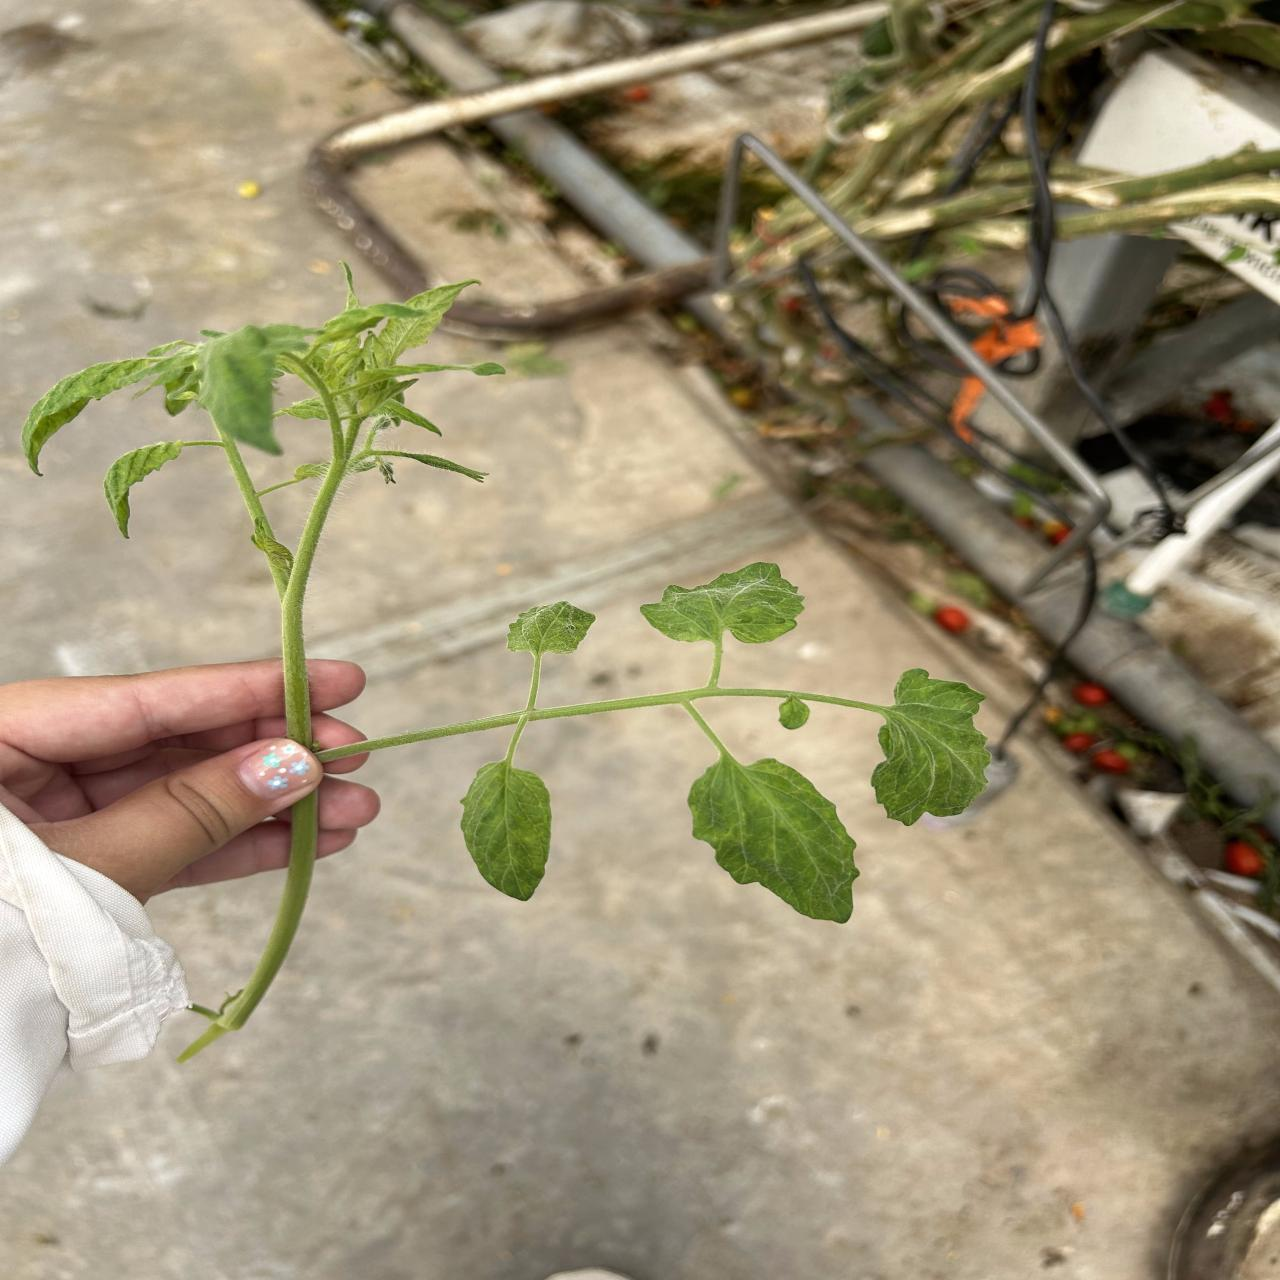Rugose leaf: (688, 753, 859, 922), (294, 280, 478, 394), (871, 670, 990, 825), (22, 356, 157, 474), (197, 326, 309, 454), (641, 563, 803, 646), (461, 755, 551, 900), (103, 441, 183, 538), (508, 601, 594, 658), (379, 401, 441, 434)
